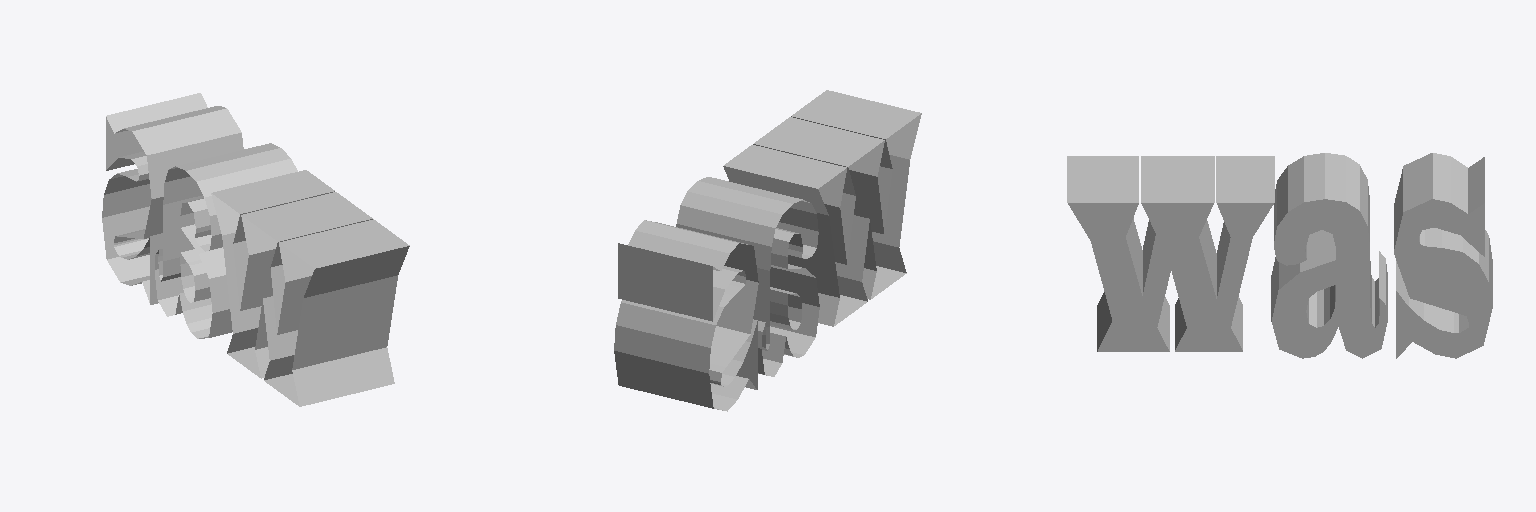
The model's file is typemesh_was.obj.
3 views of the same model, side by side, from view 1: azimuth 30°, elevation 25°; view 2: azimuth 150°, elevation 25°; view 3: azimuth 270°, elevation 25° (orthographic).
Parts seen in each view (by area): view 1: typeMesh_was group2; view 2: typeMesh_was group2; view 3: typeMesh_was group2.
Boxes of the visible parts, x1,y1,x2,y2 form: typeMesh_was group2: [102, 93, 409, 406]; typeMesh_was group2: [614, 90, 921, 411]; typeMesh_was group2: [1067, 153, 1492, 358].
Size of the model in its own units: 0.0984 by 0.1587 by 0.3814.